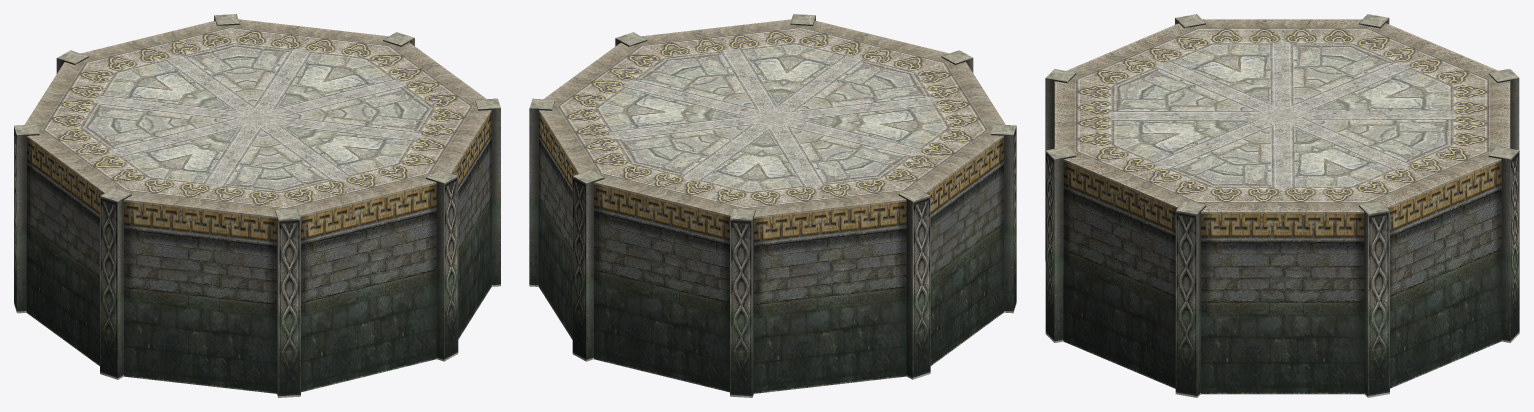
Rendered from otherworld_floor_03.glb.
3 renders of one model, left to right at view 1: azimuth 30°, elevation 25°; view 2: azimuth 150°, elevation 25°; view 3: azimuth 270°, elevation 25°, orthographic. The views are drawn at different scales.
Parts seen in each view (by area): view 1: otherworld_floor_03; view 2: otherworld_floor_03; view 3: otherworld_floor_03.
Part boxes in pixels (x1,y1,x2,y2): otherworld_floor_03: (14, 14, 500, 397); otherworld_floor_03: (529, 14, 1016, 397); otherworld_floor_03: (1045, 14, 1519, 397).
Bounding box in the file's own units: 16.5 × 7.05 × 16.5.
1 material, 1 textured.
